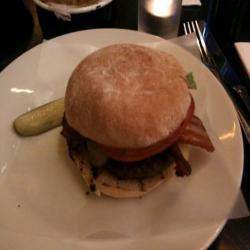burger: (56, 37, 211, 206)
